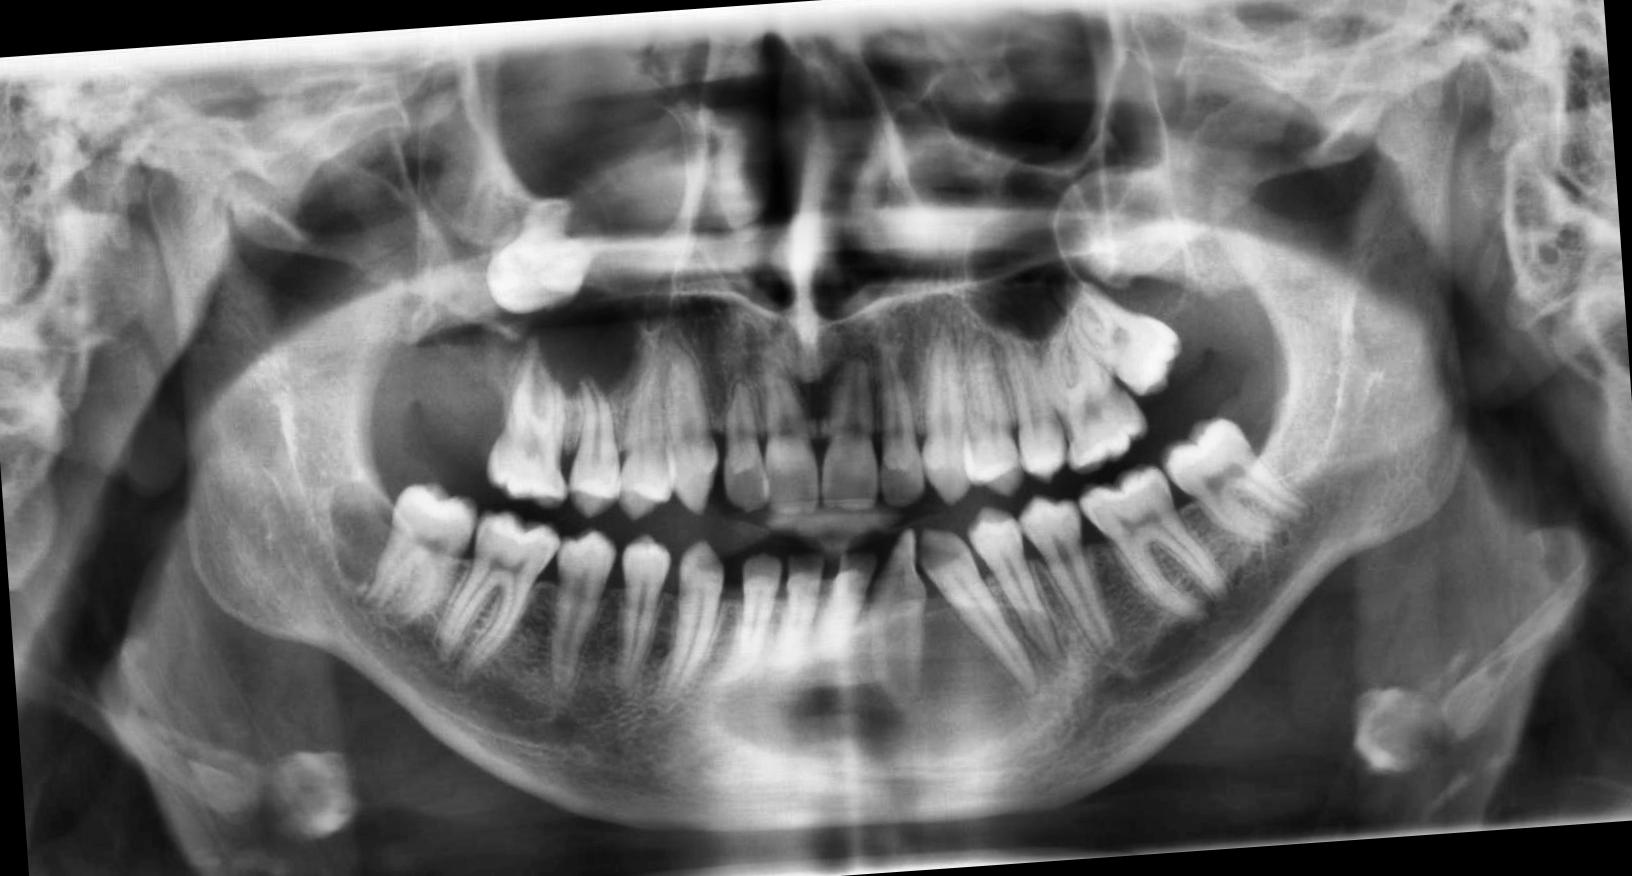okc: (413, 78, 704, 412), (702, 594, 1083, 785), (324, 473, 418, 594)
